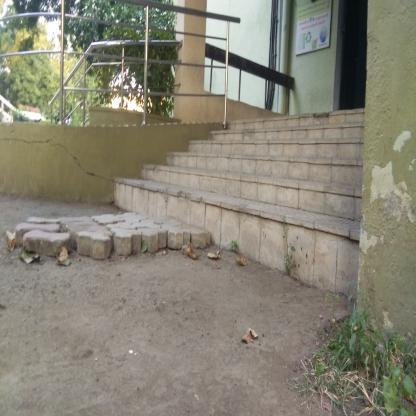stairs: (190, 128, 338, 290)
